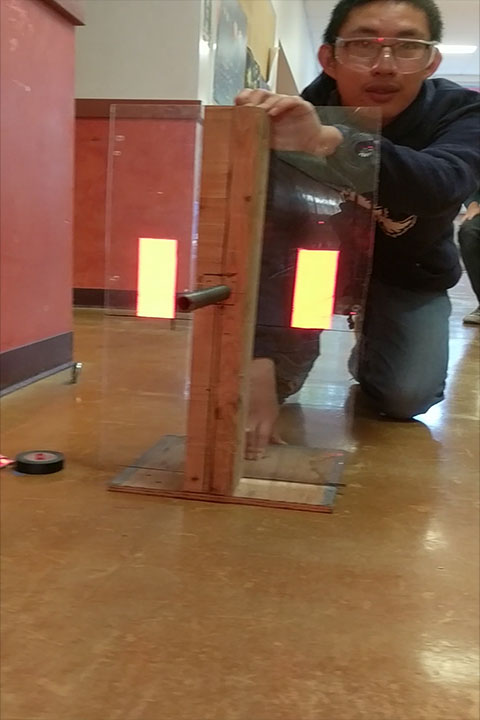gear: (290, 247, 338, 329), (136, 237, 177, 319)
